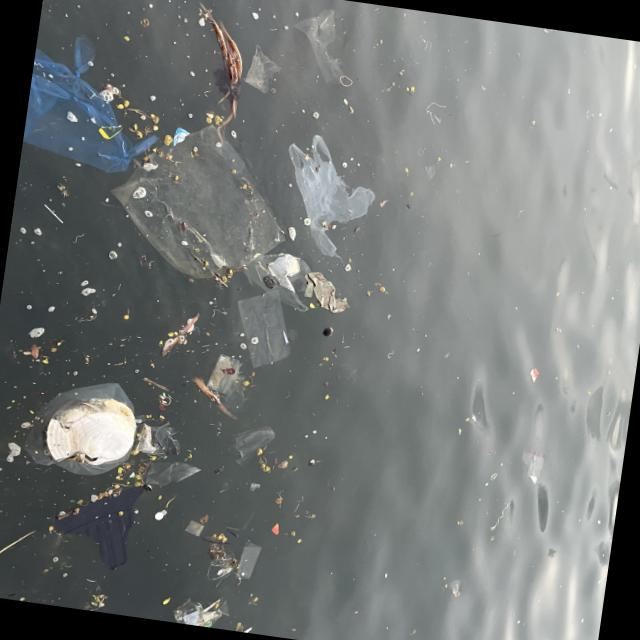foam: (43, 406, 136, 471)
plastic bag: (21, 34, 161, 169), (288, 135, 378, 263)
